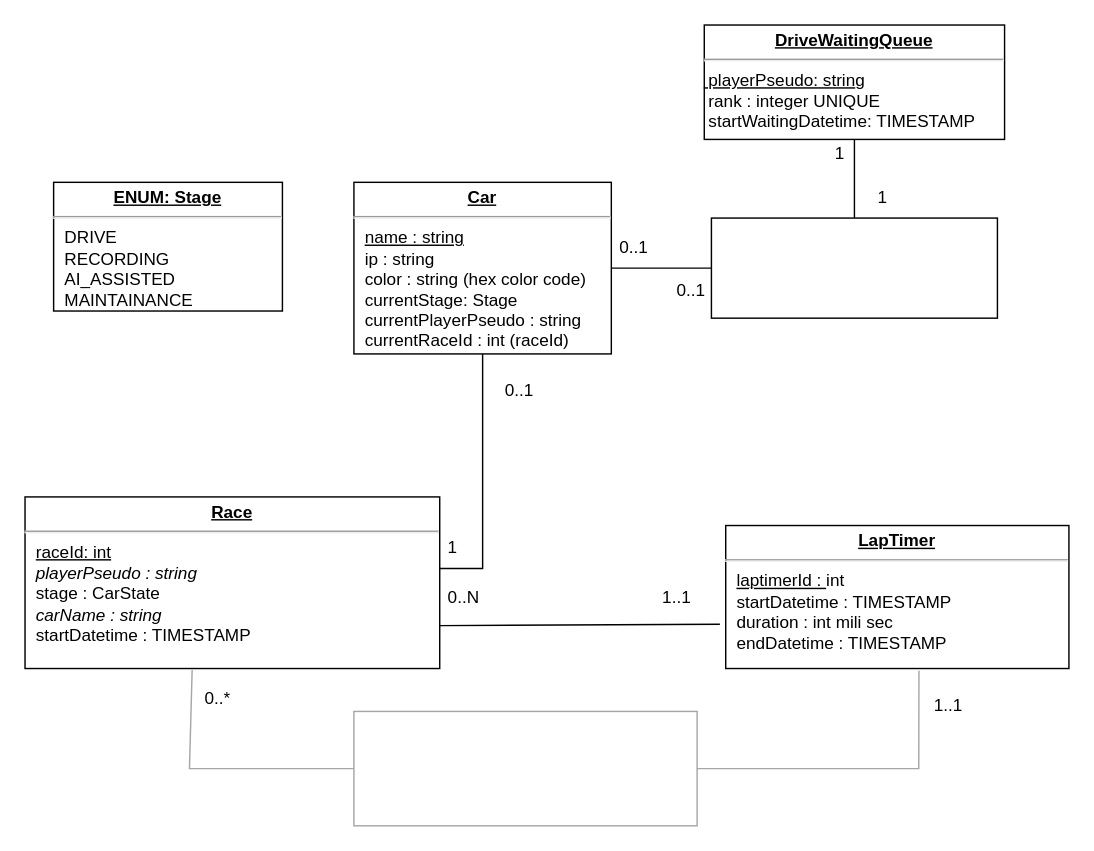
The diagram is 1094 pixels wide and 851 high, and some of its shapes have lost their labels. Here are the shapes that lost their labels. From the top down, the centre of each, then its label:
[853,267]: Player playerPseudo: strin g registerDatetime : TIMESTAMP
[524,768]: RaceTimings raceId: int laptimerId : int
